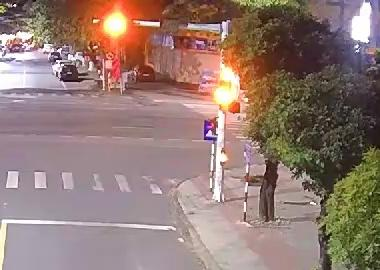stop_line: (2, 218, 176, 230)
yellow_light: (102, 13, 129, 37), (214, 85, 232, 106), (221, 68, 235, 81)
